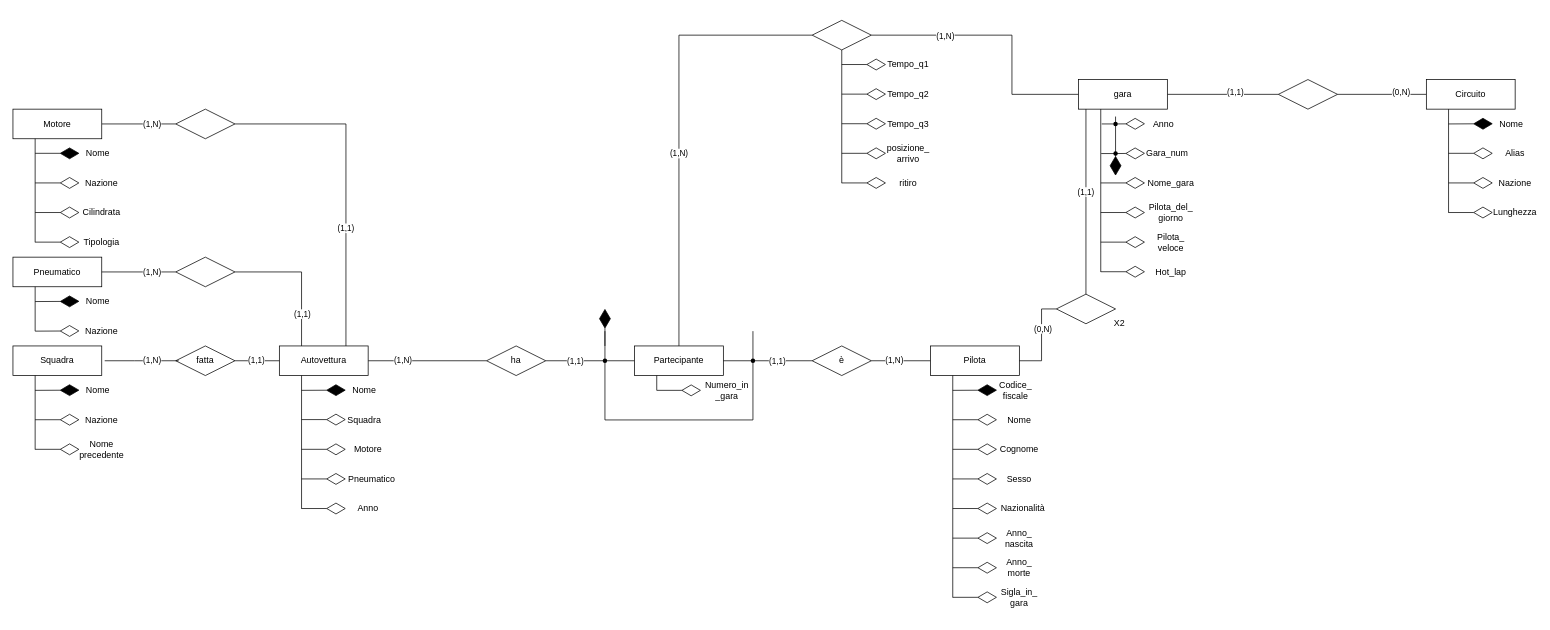
Some shapes in this 1550 by 630 pixel diagram are drawn without their labels. The centre of each missing label's shape, as x and y in pixels:
"dove" goes at (x=1308, y=94).
"Monta" goes at (x=205, y=271).
"Premiato" goes at (x=1086, y=308).
"prestazione" goes at (x=841, y=35).
"usa" goes at (x=205, y=123).
